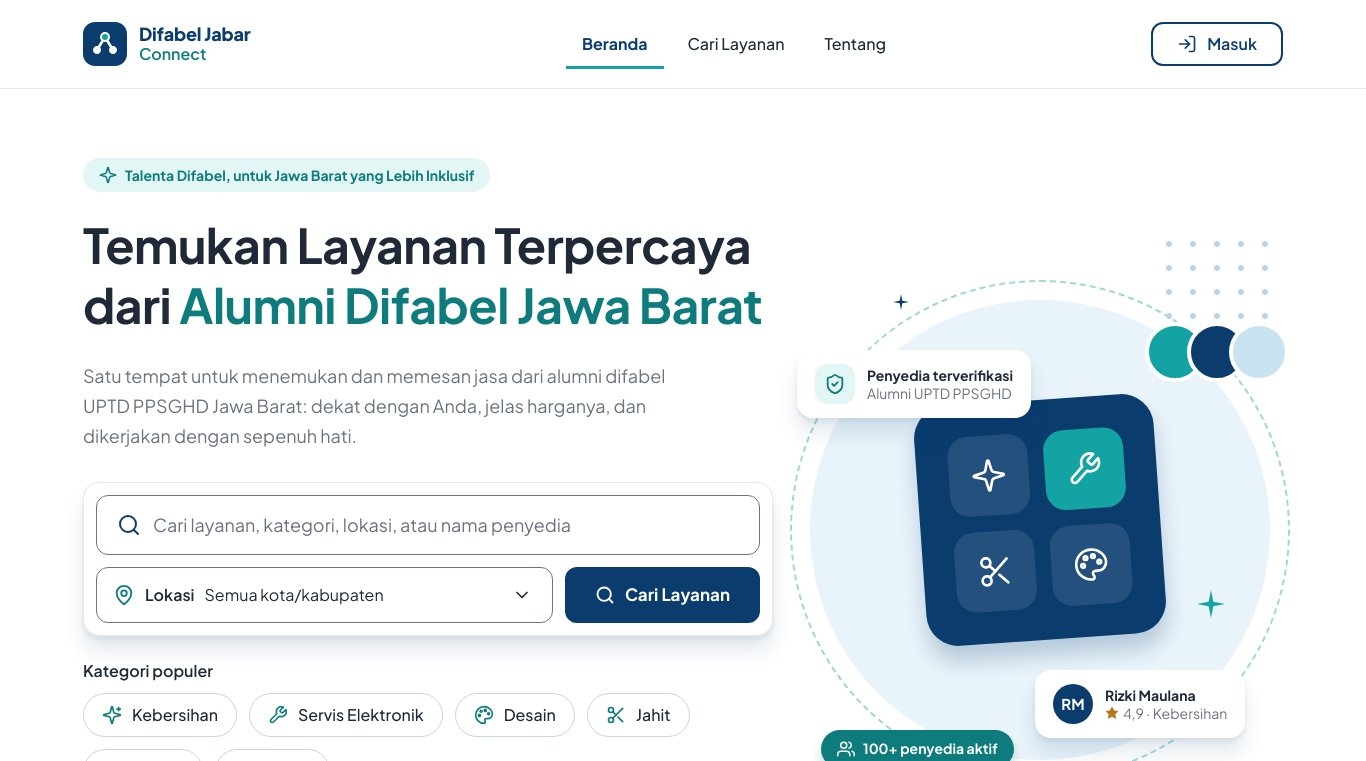
Scenario: Routing dasar › navigasi utama berpindah halaman
This screenshot has width=1366, height=761.
Click the link "Tentang". click: [855, 44]
box: [824,33,886,54]
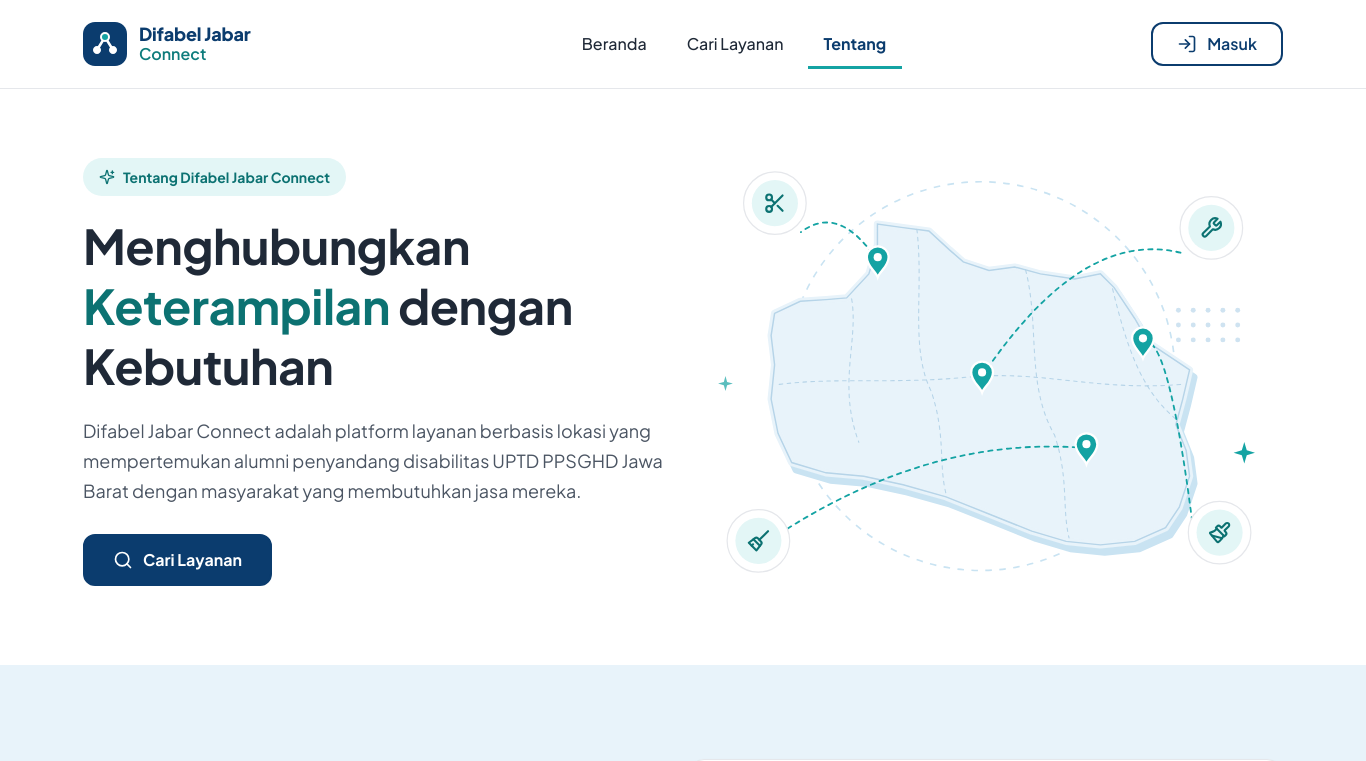
Now the heading "Menghubungkan Keterampilan dengan Kebutuhan" is shown, box [83,215,573,396]
